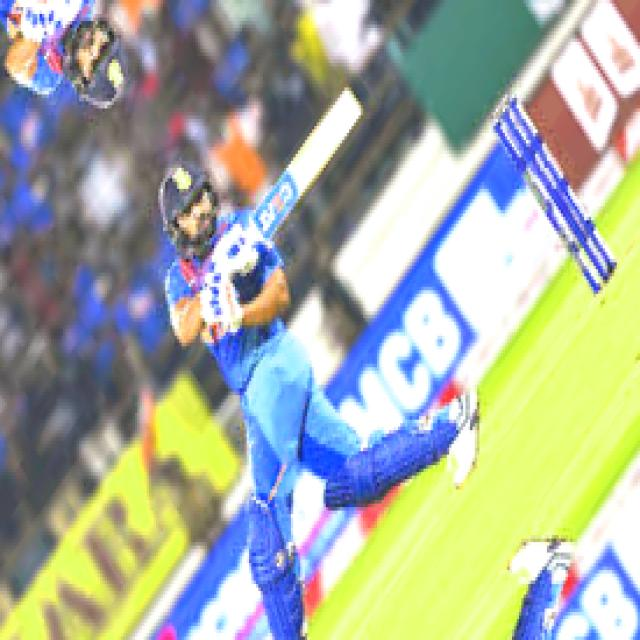toe: (330, 88, 364, 129)
